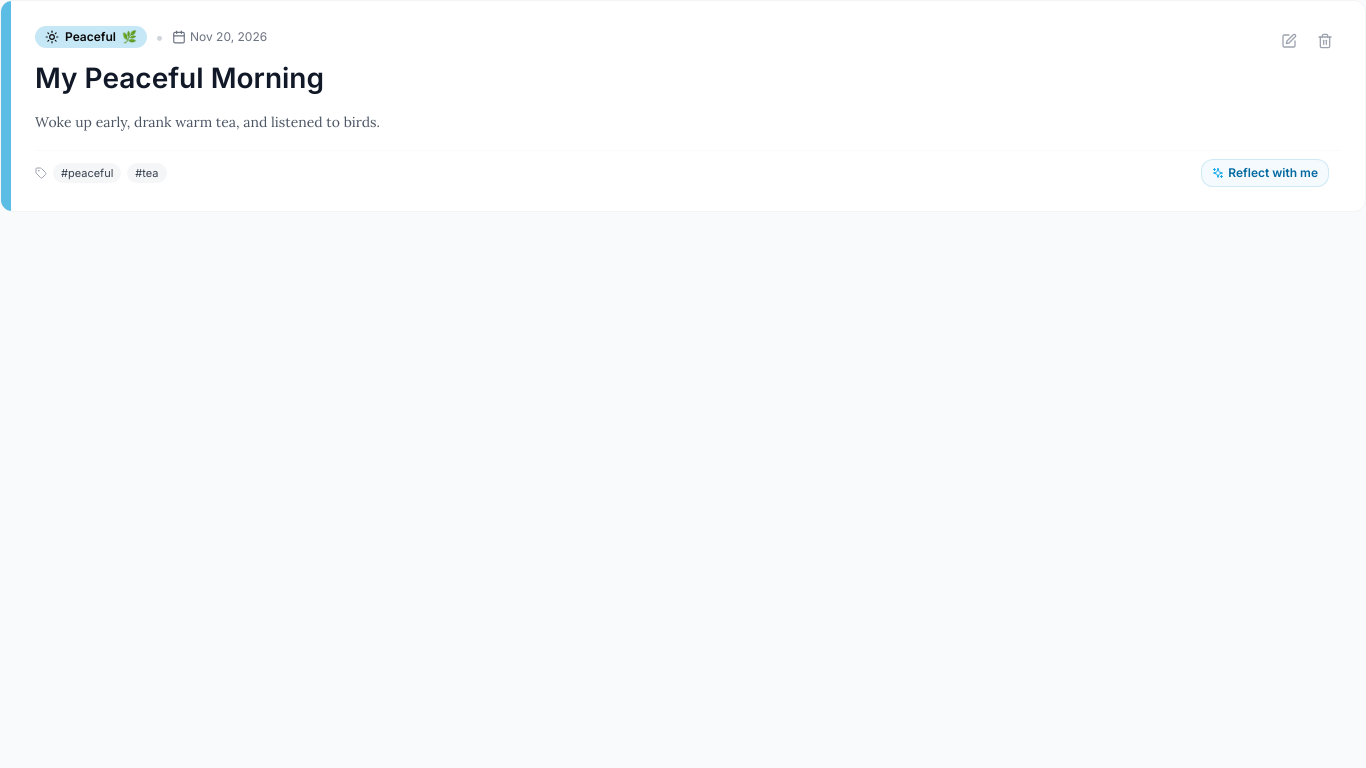
Test case: DiaryEntry "Reflect with me" Feature › handles safety "high" response by rendering SafetyBanner and suppressing AI text
The image size is (1366, 768).
Click the button "Reflect with me": (1265,173) 1201,159 -> 1329,187
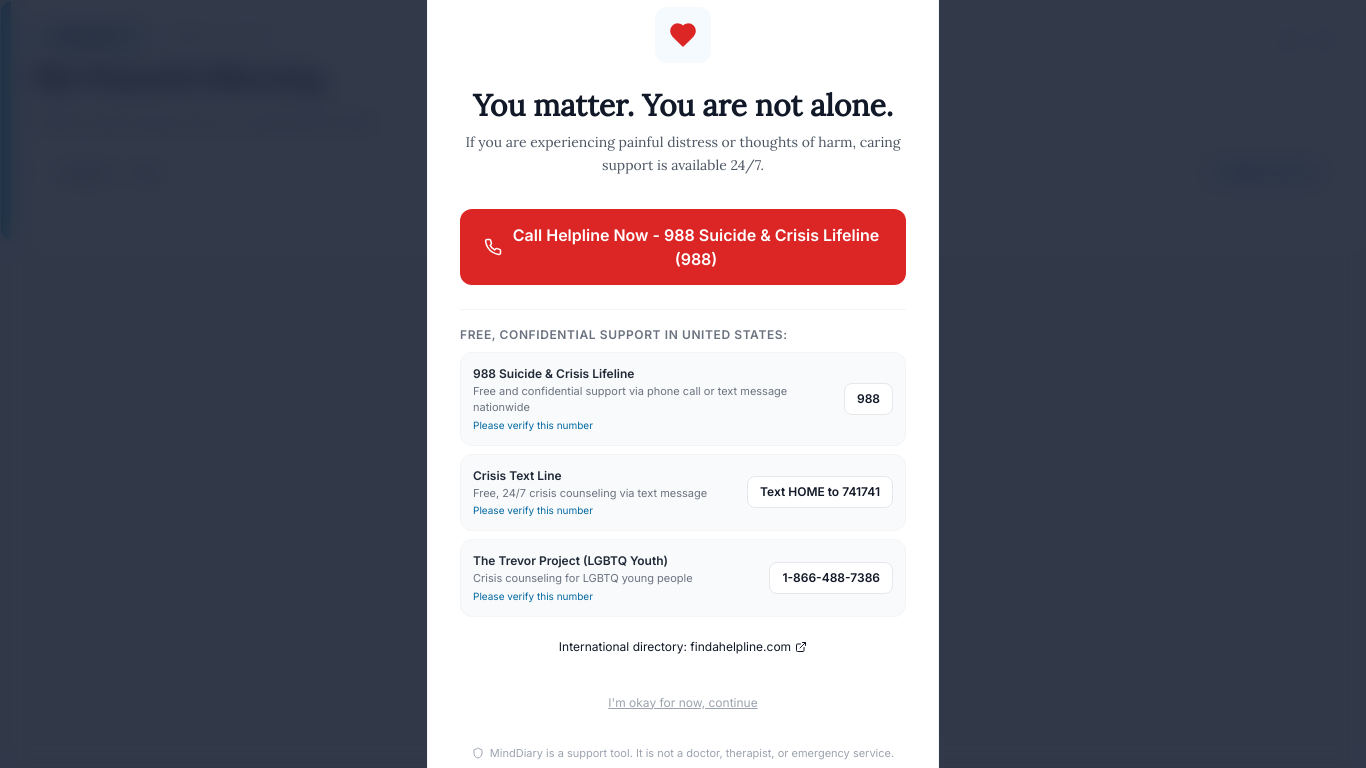
Expected: the heading "You matter. You are not alone." is shown, 460,87 -> 906,123
